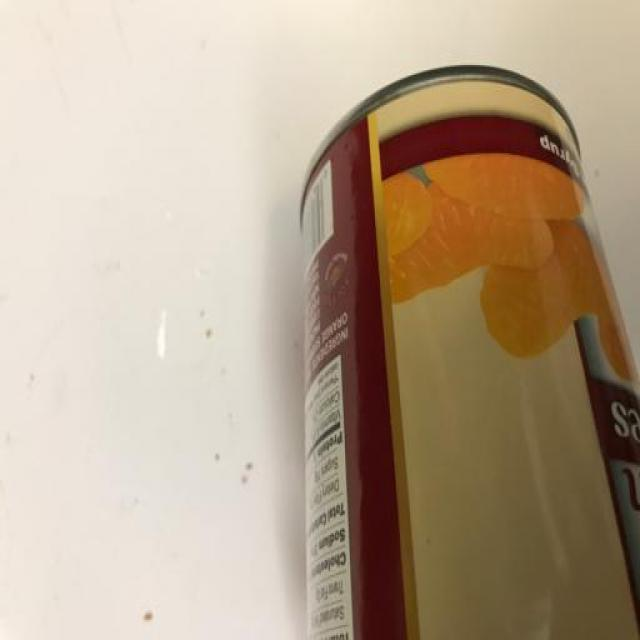metel: (288, 57, 640, 640)
